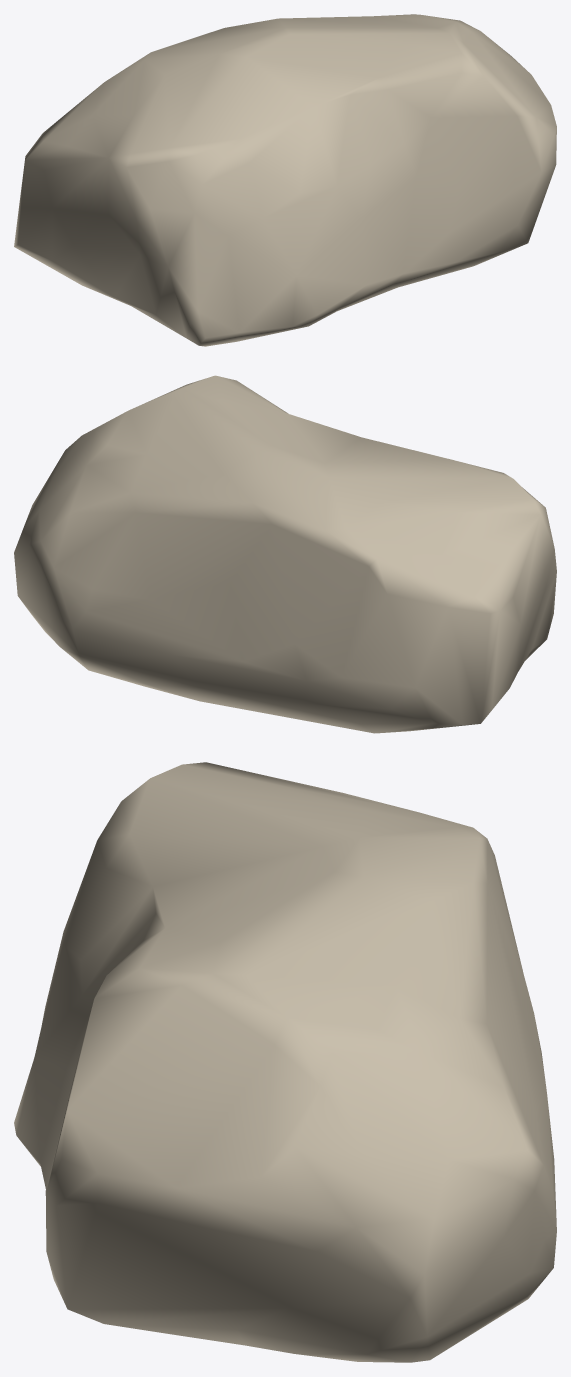
Rendered from itch_assetquest_pond_rock_4c.glb.
The picture shows the model from 3 angles, top to bottom: view 1: azimuth 30°, elevation 25°; view 2: azimuth 150°, elevation 25°; view 3: azimuth 270°, elevation 25°; orthographic projection. The views are drawn at different scales.
Parts seen in each view (by area): view 1: Rock_4c; view 2: Rock_4c; view 3: Rock_4c.
Part boxes in pixels (box(x1,y1,x2,y2)): Rock_4c: box(14, 14, 556, 346); Rock_4c: box(14, 375, 556, 733); Rock_4c: box(14, 762, 556, 1362).
Bounding box in the file's own units: 1.18 × 0.5526 × 0.7219.
